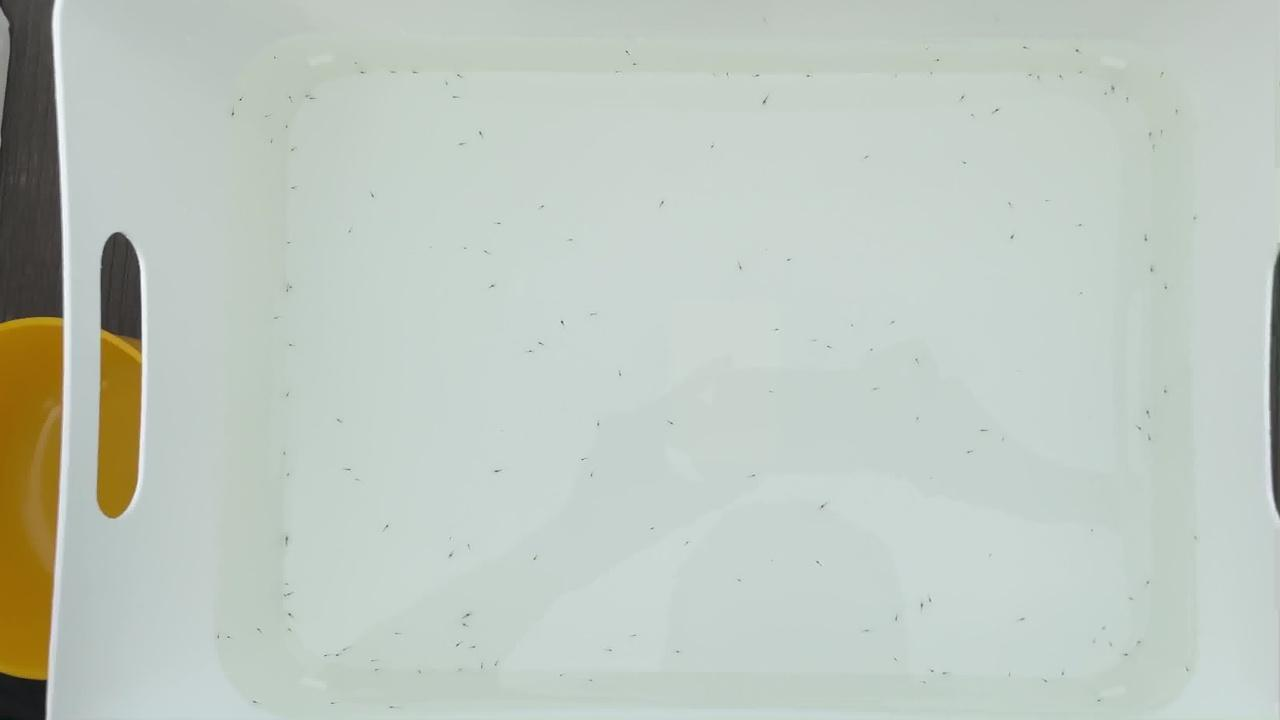shrimp: (258, 113, 271, 121), (280, 124, 293, 132), (441, 80, 454, 88), (283, 240, 296, 248), (1018, 46, 1031, 54), (1053, 74, 1066, 82), (1004, 202, 1017, 210), (888, 318, 901, 326), (781, 257, 794, 265), (586, 312, 599, 320), (372, 667, 385, 675), (467, 645, 480, 653), (341, 467, 354, 475), (491, 467, 504, 475), (585, 473, 598, 481), (574, 456, 587, 464), (681, 539, 694, 547), (628, 634, 641, 642), (671, 650, 684, 658), (747, 473, 760, 481), (977, 428, 990, 436), (1128, 594, 1141, 602), (1003, 672, 1016, 680), (385, 69, 397, 77), (369, 190, 381, 198), (1100, 91, 1112, 99), (457, 622, 469, 630), (352, 478, 364, 486), (912, 357, 924, 365), (1017, 617, 1029, 625), (227, 111, 240, 118), (234, 97, 247, 104), (267, 56, 280, 63), (284, 94, 297, 101), (265, 138, 278, 145), (299, 94, 312, 101), (306, 96, 319, 103), (349, 60, 362, 67), (354, 70, 367, 77), (410, 70, 423, 77), (454, 75, 467, 82), (448, 93, 461, 100), (458, 139, 471, 146), (345, 226, 358, 233), (287, 146, 300, 153), (284, 284, 297, 291), (282, 288, 295, 295), (269, 316, 282, 323), (460, 243, 473, 250), (492, 221, 505, 228), (535, 205, 548, 212), (486, 283, 499, 290), (630, 61, 643, 68), (622, 49, 635, 56), (711, 72, 724, 79), (749, 72, 762, 79), (757, 99, 770, 106), (803, 73, 816, 80), (860, 155, 873, 162), (932, 60, 945, 67), (927, 70, 940, 77), (956, 94, 969, 101), (965, 112, 978, 119), (958, 159, 971, 166), (993, 108, 1006, 115), (1022, 74, 1035, 81), (1071, 70, 1084, 77), (1105, 85, 1118, 92), (1170, 108, 1183, 115), (1144, 132, 1157, 139), (1187, 214, 1200, 221), (1141, 238, 1154, 245), (1145, 265, 1158, 272), (1160, 283, 1173, 290), (1074, 223, 1087, 230), (1043, 197, 1056, 204), (846, 324, 859, 331), (823, 344, 836, 351), (810, 338, 823, 345), (771, 329, 784, 336), (734, 265, 747, 272), (653, 199, 666, 206), (557, 321, 570, 328), (536, 341, 549, 348), (525, 347, 538, 354), (282, 393, 295, 400), (277, 450, 290, 457), (284, 473, 297, 480), (281, 537, 294, 544), (281, 591, 294, 598), (286, 612, 299, 619), (283, 625, 296, 632), (254, 628, 267, 635), (221, 636, 234, 643), (214, 636, 227, 643), (248, 701, 261, 708), (325, 701, 338, 708), (386, 704, 399, 711), (367, 658, 380, 665), (339, 648, 352, 655), (332, 653, 345, 660), (321, 653, 334, 660), (393, 630, 406, 637), (413, 668, 426, 675), (454, 665, 467, 672), (475, 665, 488, 672), (488, 662, 501, 669), (452, 643, 465, 650), (462, 613, 475, 620), (444, 555, 457, 562), (381, 525, 394, 532), (334, 416, 347, 423), (463, 542, 476, 549), (530, 556, 543, 563), (591, 422, 604, 429), (613, 371, 626, 378), (663, 420, 676, 427), (648, 524, 661, 531), (605, 649, 618, 656), (732, 576, 745, 583), (817, 505, 830, 512), (765, 389, 778, 396), (871, 385, 884, 392), (965, 449, 978, 456), (1142, 412, 1155, 419), (1160, 390, 1173, 397), (1074, 290, 1087, 297), (999, 437, 1012, 444), (1189, 536, 1202, 543), (1143, 581, 1156, 588), (985, 554, 998, 561), (927, 599, 940, 606), (917, 602, 930, 609), (889, 616, 902, 623), (858, 628, 871, 635), (889, 659, 902, 666), (921, 679, 934, 686), (924, 670, 937, 677), (943, 672, 956, 679), (1093, 697, 1106, 704), (1135, 641, 1148, 648), (1099, 626, 1112, 633), (1089, 643, 1102, 650), (1182, 668, 1195, 675), (555, 673, 568, 680), (761, 16, 774, 23), (474, 132, 486, 139), (286, 188, 298, 195), (285, 342, 297, 349), (480, 248, 492, 255), (563, 237, 575, 244), (612, 71, 624, 78), (723, 72, 735, 79), (1033, 77, 1045, 84), (1072, 51, 1084, 58), (1122, 97, 1134, 104), (1155, 72, 1167, 79), (1155, 128, 1167, 135), (1150, 142, 1162, 149), (1006, 234, 1018, 241), (867, 347, 879, 354), (706, 144, 718, 151), (280, 580, 292, 587), (812, 560, 824, 567), (912, 414, 924, 421), (1133, 426, 1145, 433), (1144, 436, 1156, 443), (1089, 529, 1101, 536), (1039, 677, 1051, 684), (1056, 671, 1068, 678), (1122, 653, 1134, 660), (1105, 642, 1117, 649), (585, 679, 597, 686)
